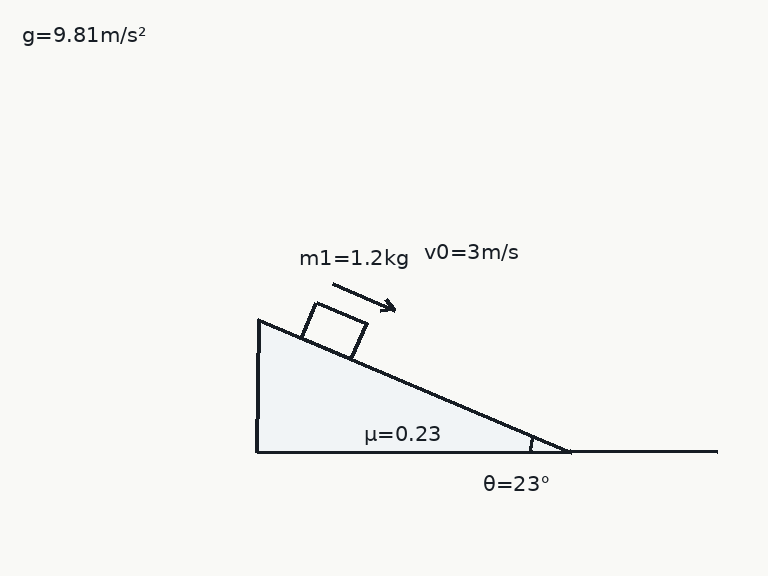block: (299, 300, 367, 361)
ramp: (255, 317, 572, 454)
